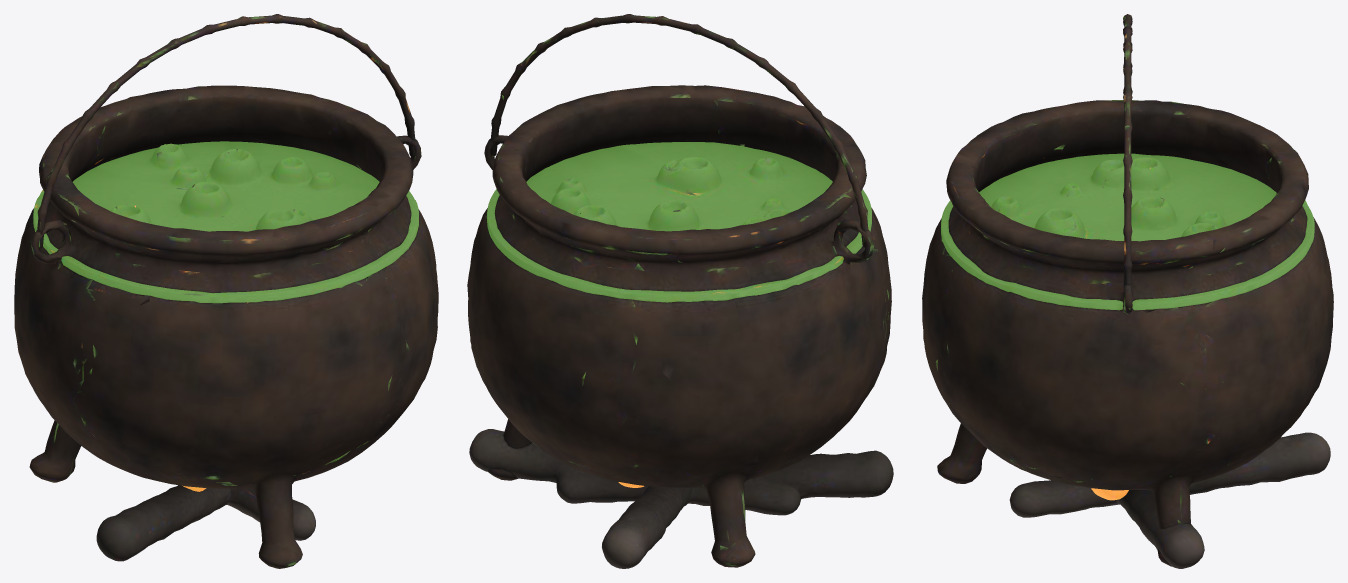
File: cauldron.glb
3 renders of one model, left to right at view 1: azimuth 30°, elevation 25°; view 2: azimuth 150°, elevation 25°; view 3: azimuth 270°, elevation 25°, orthographic. The views are drawn at different scales.
Visible parts, largest first — view 1: Cauldron, Brew, Fire_Logs, Cauldron_Bail; view 2: Cauldron, Brew, Fire_Logs, Cauldron_Bail; view 3: Cauldron, Brew, Fire_Logs, Cauldron_Bail.
Boxes of the visible parts, x1=… form: Cauldron: x1=14, y1=85, x2=438, y2=568; Brew: x1=33, y1=141, x2=418, y2=303; Fire_Logs: x1=96, y1=485, x2=315, y2=561; Cauldron_Bail: x1=37, y1=14, x2=415, y2=248; Cauldron: x1=467, y1=85, x2=891, y2=567; Brew: x1=487, y1=142, x2=871, y2=302; Fire_Logs: x1=469, y1=429, x2=893, y2=568; Cauldron_Bail: x1=490, y1=14, x2=868, y2=247; Cauldron: x1=922, y1=100, x2=1333, y2=566; Brew: x1=941, y1=153, x2=1314, y2=310; Fire_Logs: x1=1009, y1=432, x2=1330, y2=568; Cauldron_Bail: x1=1123, y1=14, x2=1132, y2=285.
Size of the model in its own units: 0.9801 by 1.17 by 0.9253.
Materials: 1 (1 with a texture image).
